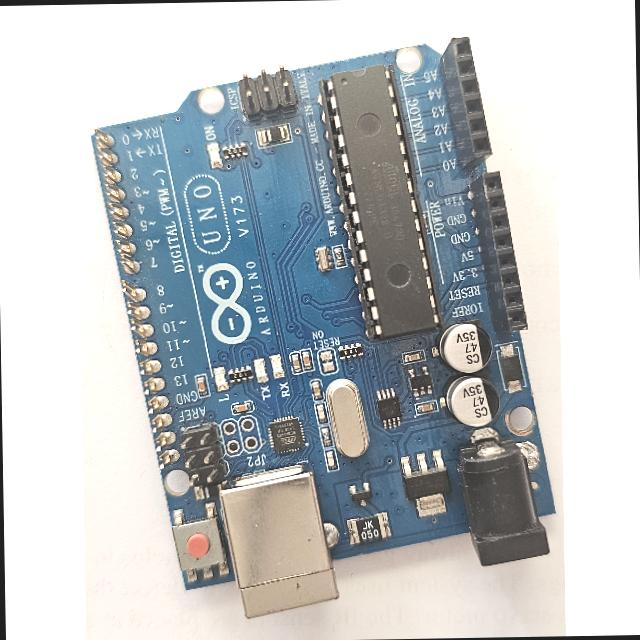missing_digital_pins: (86, 120, 180, 475)
